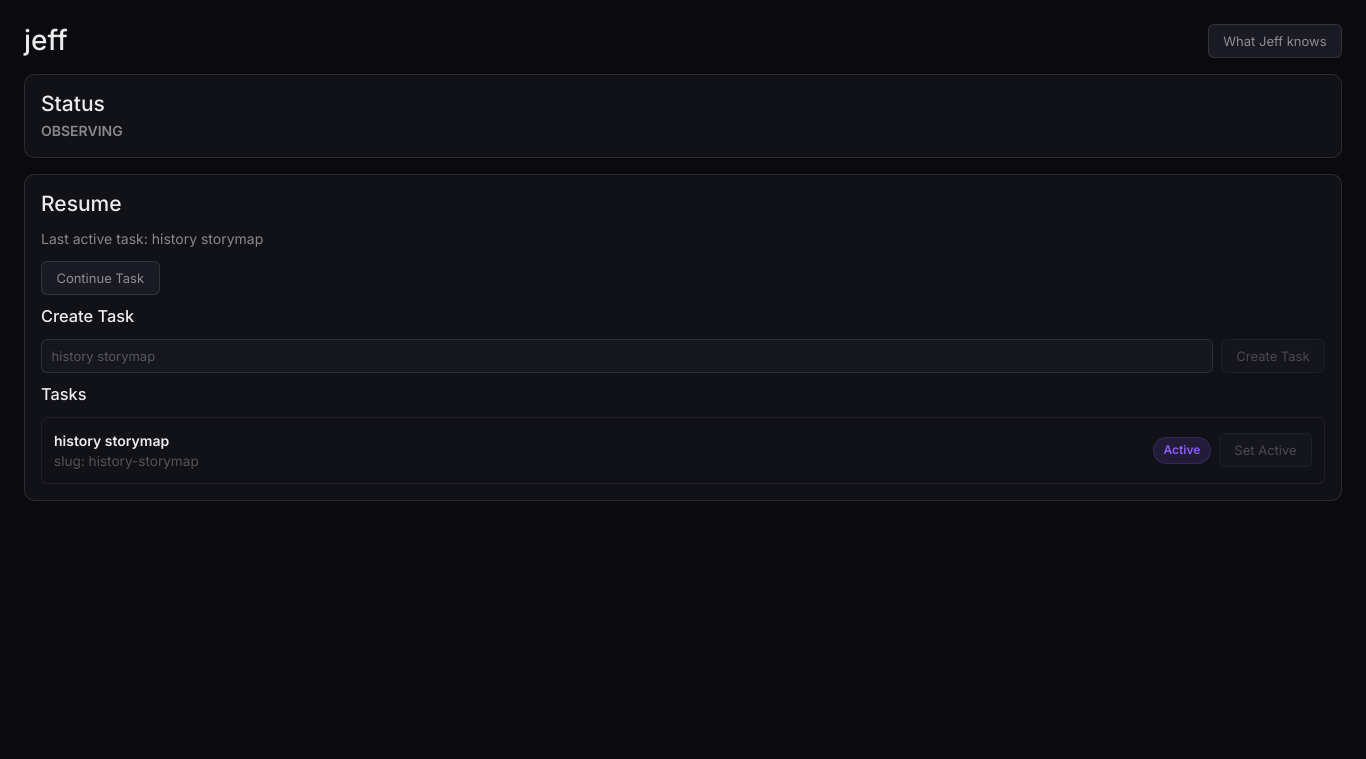
Test: App › shows workspace soft prompt when onboarding is complete but no folder is set
Expected: the element with test id "home-resume-screen" is shown, [24,174,1342,501]
Click the button with test id "continue-task-button": (100, 278) [41,261,160,295]
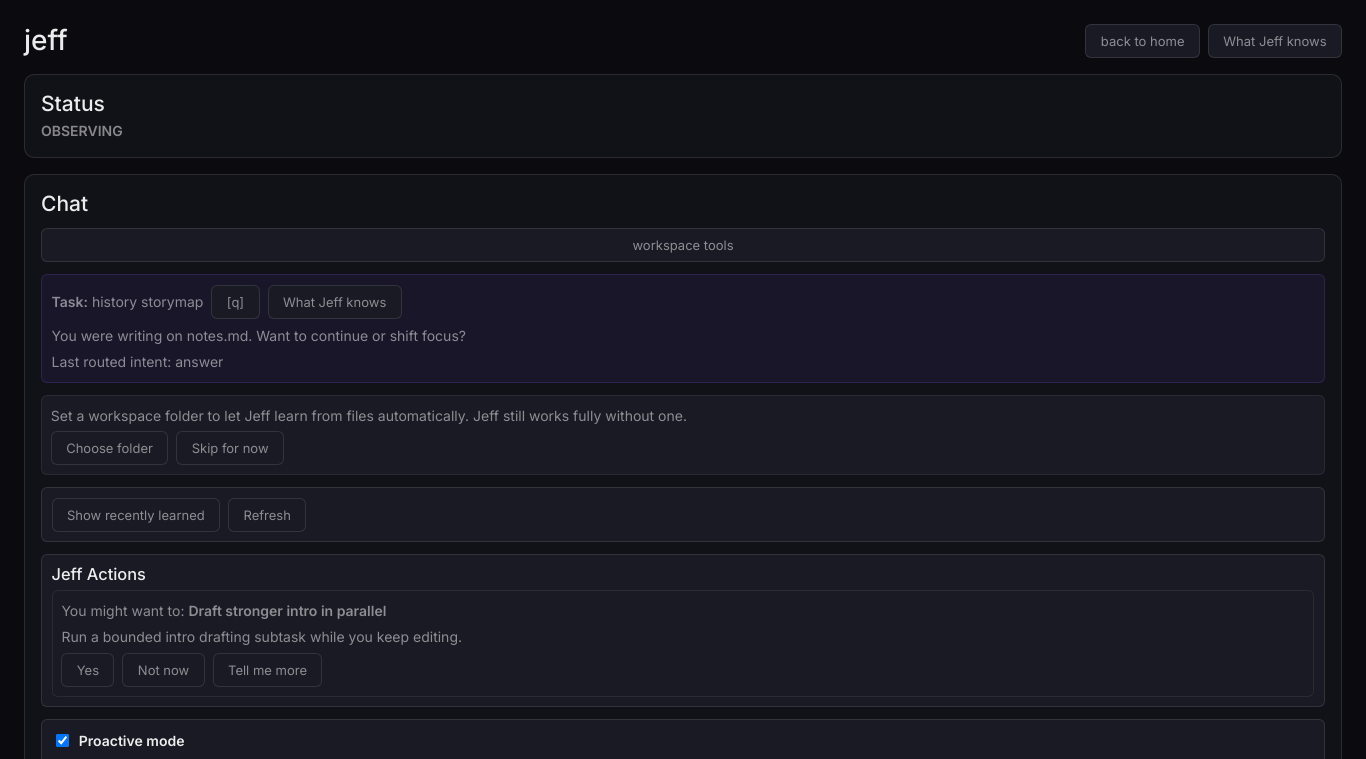
Expected: the element with test id "companion-workspace-soft-prompt" is shown, [41,395,1325,475]
